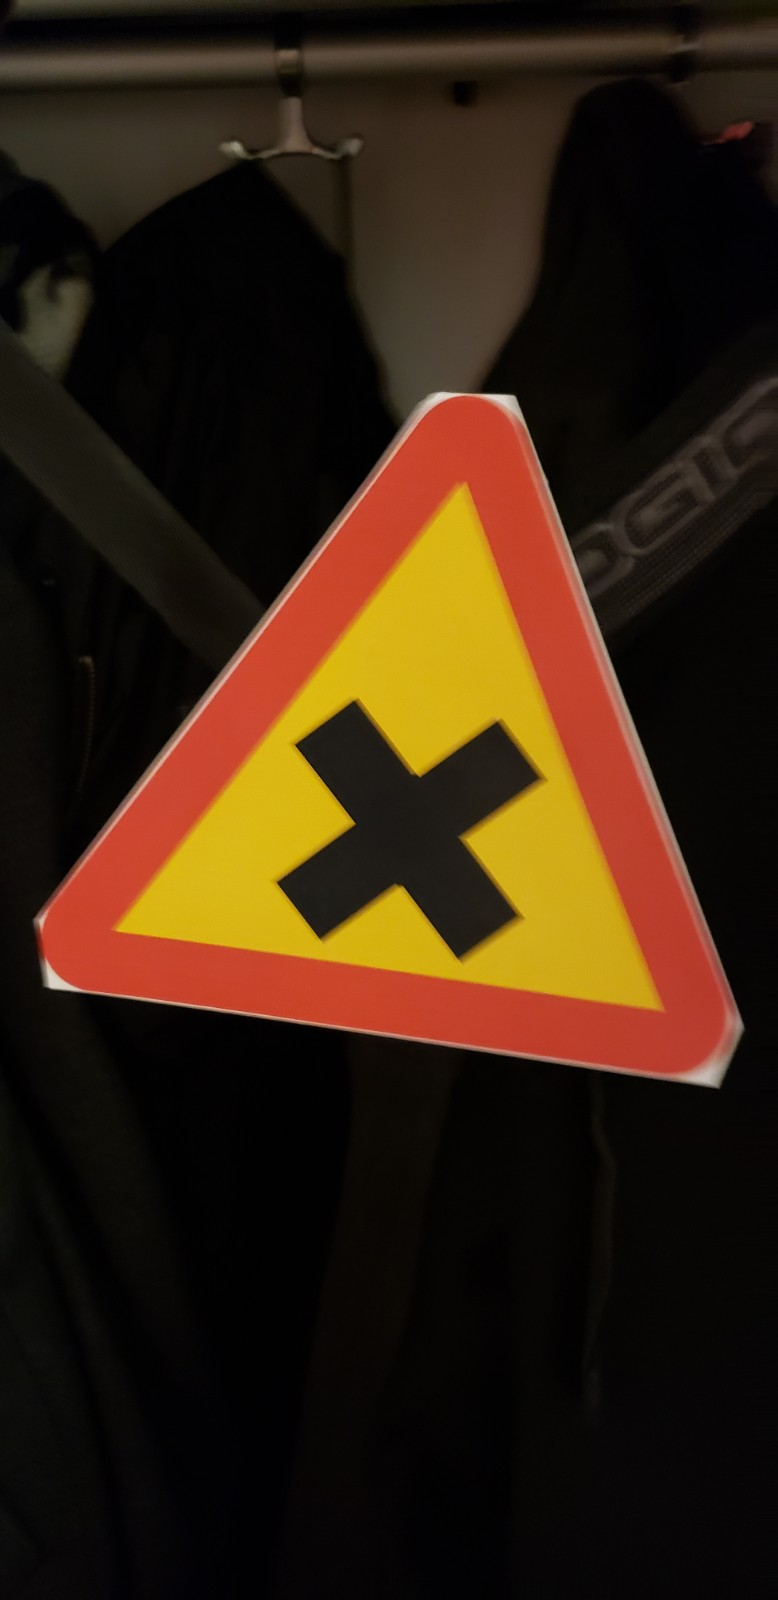junction: (29, 334, 742, 1151)
